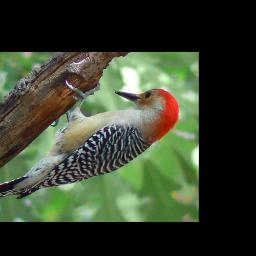Woodpecker: (0, 79, 183, 203)
